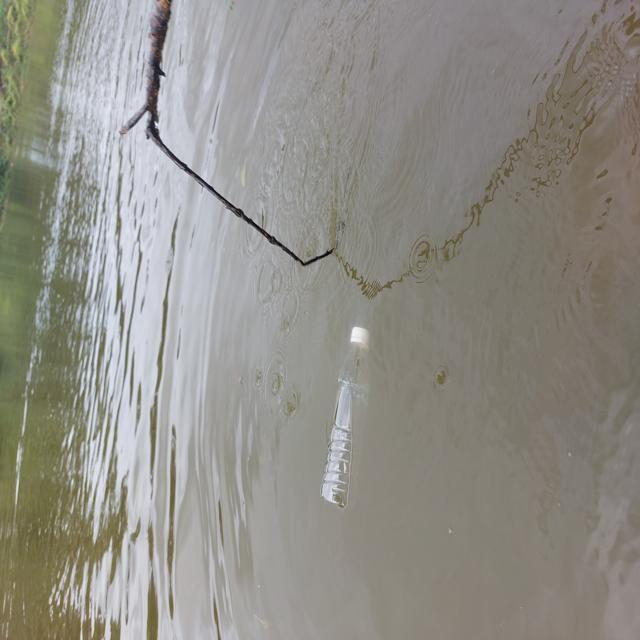waterbottle: (318, 309, 383, 509)
